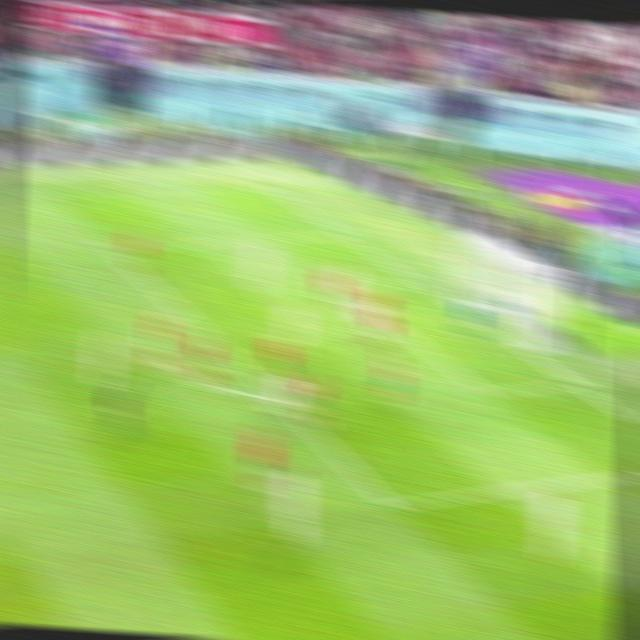bigarea_bottom_inner: (373, 488, 408, 521)
bigarea_top_inner: (98, 239, 122, 258)
bigarea_top_outter: (329, 227, 353, 241)
bottom_arc_area_intersection: (267, 393, 291, 411)
corner: (253, 181, 274, 189)
smallarea_bottom_inner: (470, 378, 502, 405)
smallarea_bottom_outter: (562, 374, 588, 393)
smallarea_top_outter: (402, 272, 428, 290)
top_arc_area_intersection: (168, 300, 192, 317)
